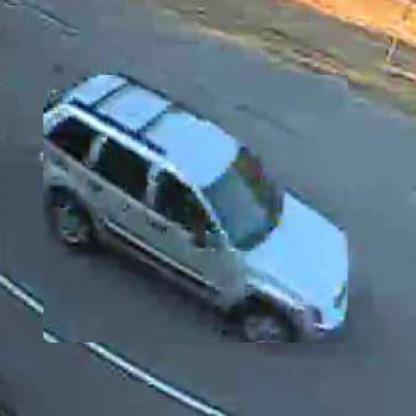car: (44, 76, 350, 345)
